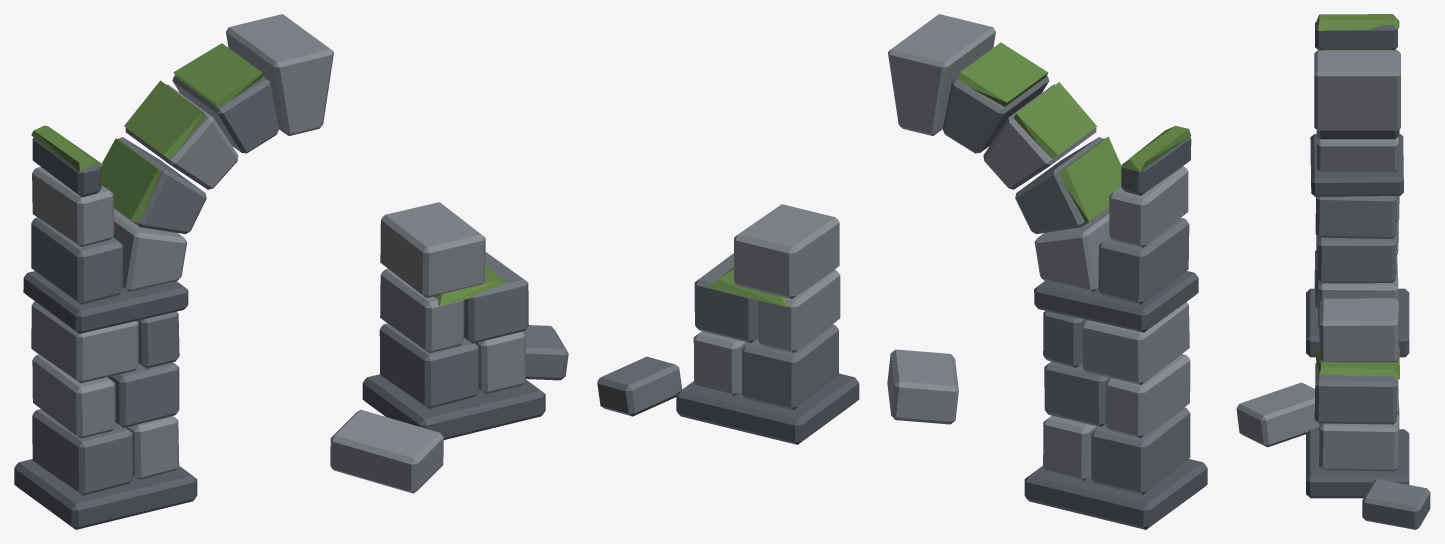
File: Ruin_Arch.fbx
The picture shows the model from 3 angles, left to right: view 1: azimuth 30°, elevation 25°; view 2: azimuth 150°, elevation 25°; view 3: azimuth 270°, elevation 25°; orthographic projection. The views are drawn at different scales.
Parts seen in each view (by area): view 1: Stone2, Stone, Stone3, Moss; view 2: Stone2, Stone, Stone3, Moss; view 3: Stone2, Stone, Stone3, Moss.
Part boxes in pixels (box(x1,y1,x2,y2)): Stone2: box(31, 14, 526, 493); Stone: box(31, 75, 568, 495); Stone3: box(14, 137, 545, 529); Moss: box(31, 43, 506, 305); Stone2: box(693, 14, 1190, 481); Stone: box(597, 75, 1190, 494); Stone3: box(676, 137, 1207, 529); Moss: box(707, 42, 1191, 306); Stone2: box(1236, 49, 1400, 471); Stone: box(1314, 129, 1430, 529); Stone3: box(1306, 21, 1409, 498); Moss: box(1315, 14, 1399, 379).
Bounding box in the file's own units: 12.16 × 8.94 × 4.51.
